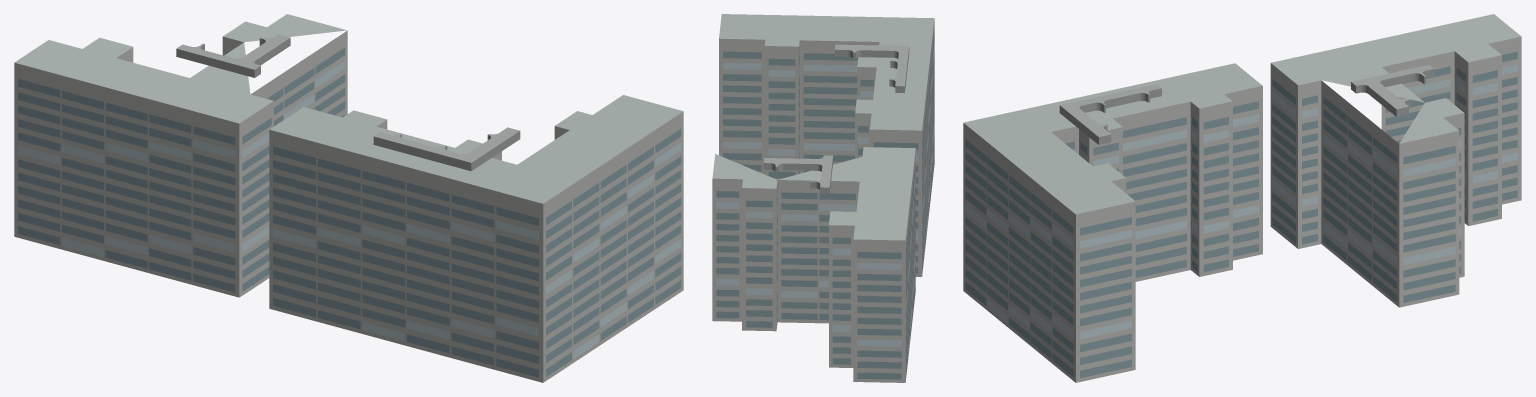
Rendered from apt-a13784401.glb.
3 renders of one model, left to right at view 1: azimuth 30°, elevation 25°; view 2: azimuth 150°, elevation 25°; view 3: azimuth 270°, elevation 25°, orthographic. The views are drawn at different scales.
Visible parts, largest first — view 1: apt-a13784401; view 2: apt-a13784401; view 3: apt-a13784401.
Boxes of the visible parts, x1,y1,x2,y2 form: apt-a13784401: (14,14,683,382); apt-a13784401: (712,14,934,382); apt-a13784401: (963,14,1521,382).
Size of the model in its own units: 89.83 by 36 by 103.
